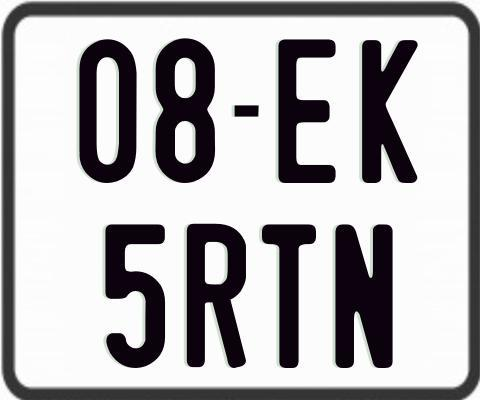0: (77, 37, 139, 187)
5: (102, 223, 168, 368)
8: (155, 38, 217, 189)
E: (278, 39, 341, 185)
K: (362, 40, 422, 185)
N: (333, 221, 397, 370)
R: (185, 224, 249, 374)
T: (260, 223, 319, 370)
